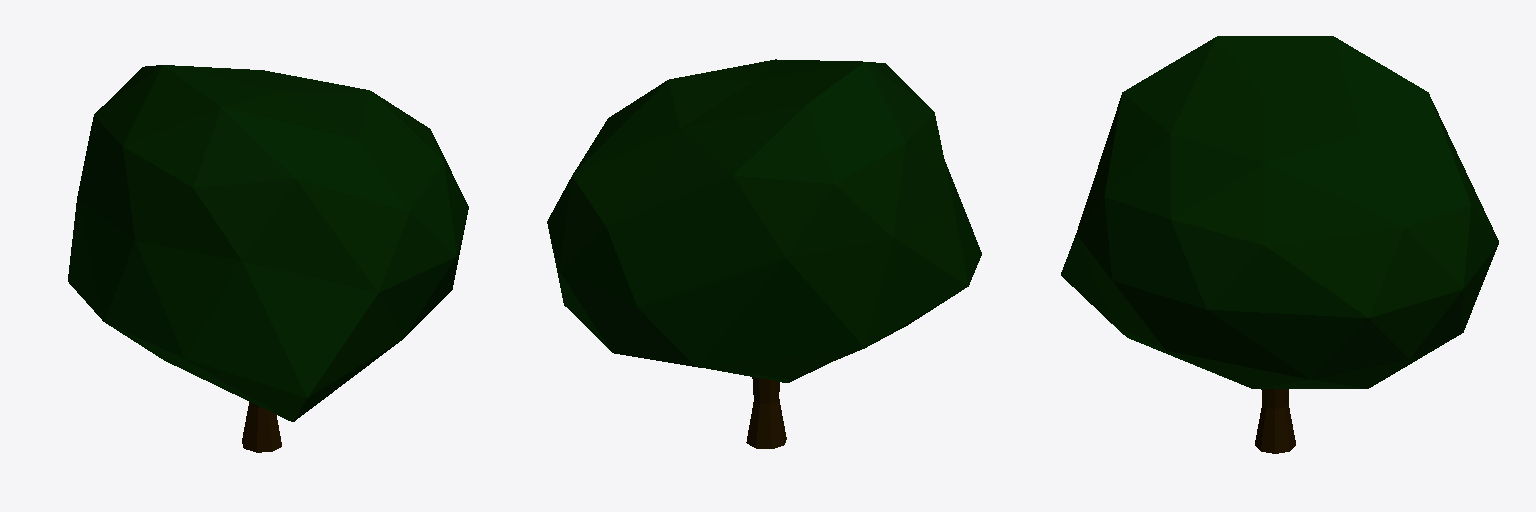
The model's file is Bush3.1.obj.
The picture shows the model from 3 angles: view 1: azimuth 30°, elevation 25°; view 2: azimuth 150°, elevation 25°; view 3: azimuth 270°, elevation 25°; orthographic projection.
Visible parts, largest first — view 1: Bush3.1_Cylinder; view 2: Bush3.1_Cylinder; view 3: Bush3.1_Cylinder.
Boxes of the visible parts, box(x1,y1,x2,y2) form: Bush3.1_Cylinder: box(68, 65, 468, 452); Bush3.1_Cylinder: box(547, 59, 981, 448); Bush3.1_Cylinder: box(1061, 36, 1498, 453).
Bounding box in the file's own units: 1.15 × 1.17 × 1.24.